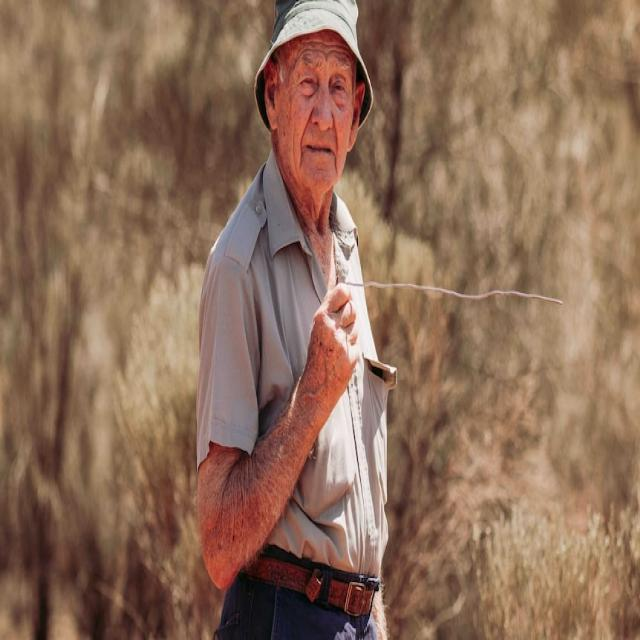hat: (254, 0, 374, 201)
